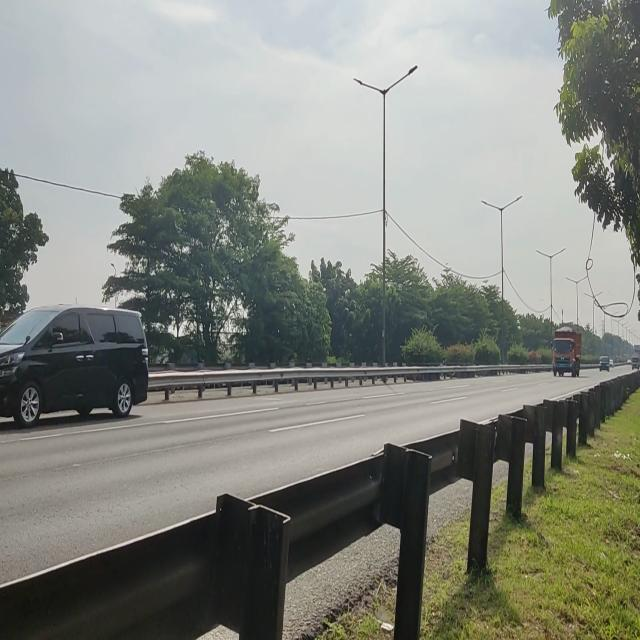Golongan I: (0, 299, 152, 431)
